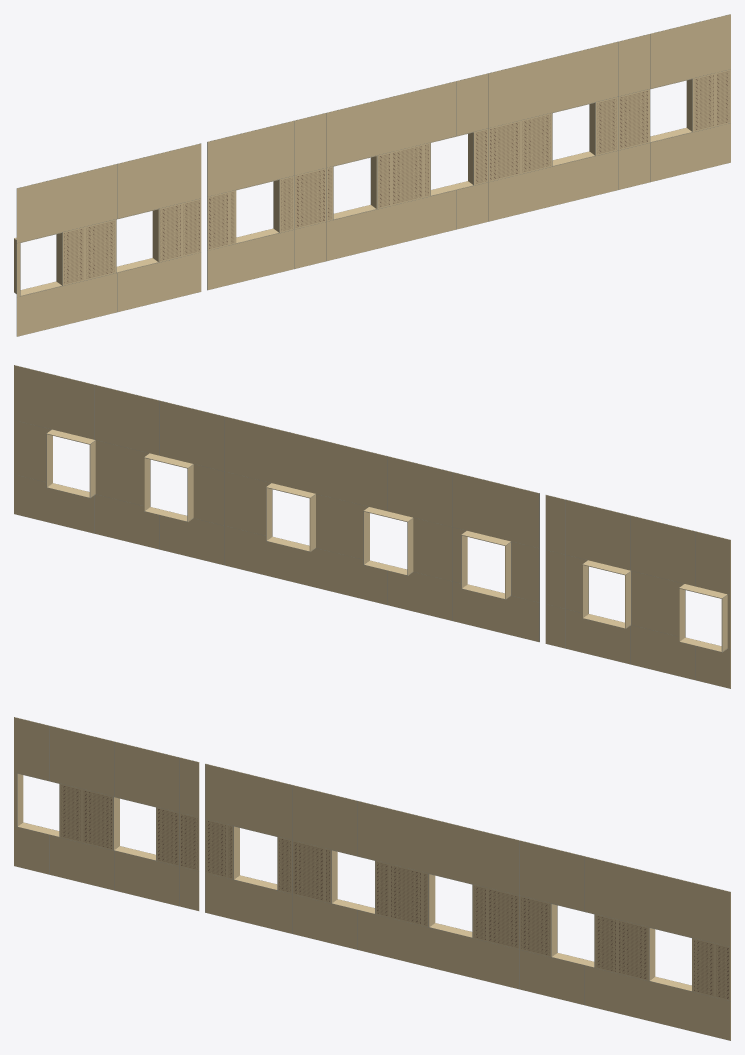
Rendered from modell.glb.
3 renders of one model, top to bottom at view 1: azimuth 30°, elevation 25°; view 2: azimuth 150°, elevation 25°; view 3: azimuth 330°, elevation 25°, orthographic.
Parts seen in each view (by area): view 1: 2026-196 ballrom; view 2: 2026-196 ballrom; view 3: 2026-196 ballrom.
Part boxes in pixels (x1,y1,x2,y2): 2026-196 ballrom: (14,14,730,336); 2026-196 ballrom: (14,365,730,688); 2026-196 ballrom: (14,717,730,1040).
Size of the model in its own units: 17629 by 3499 by 253.
Materials: 3 (1 with a texture image).
